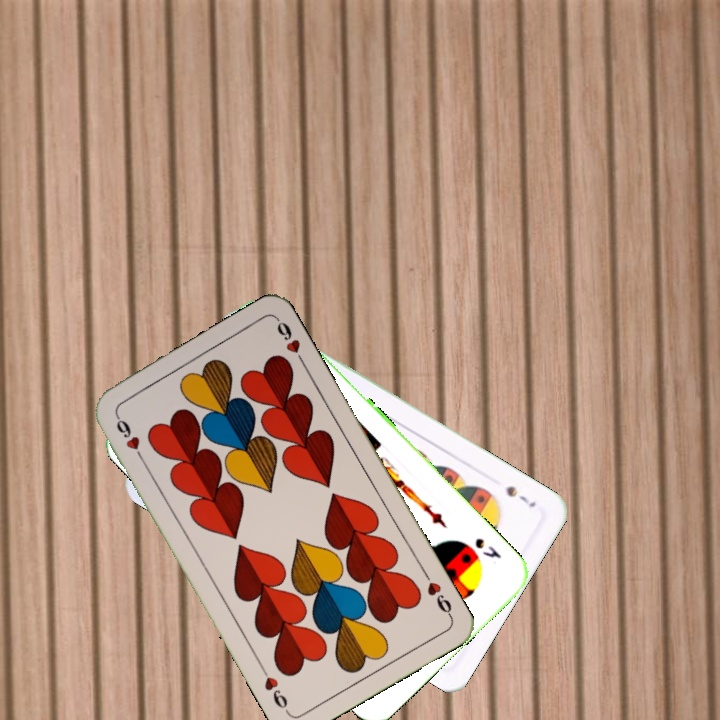H9: (419, 567, 455, 621), (112, 410, 147, 464)
S7: (502, 481, 539, 510)
SK: (471, 534, 504, 561)
